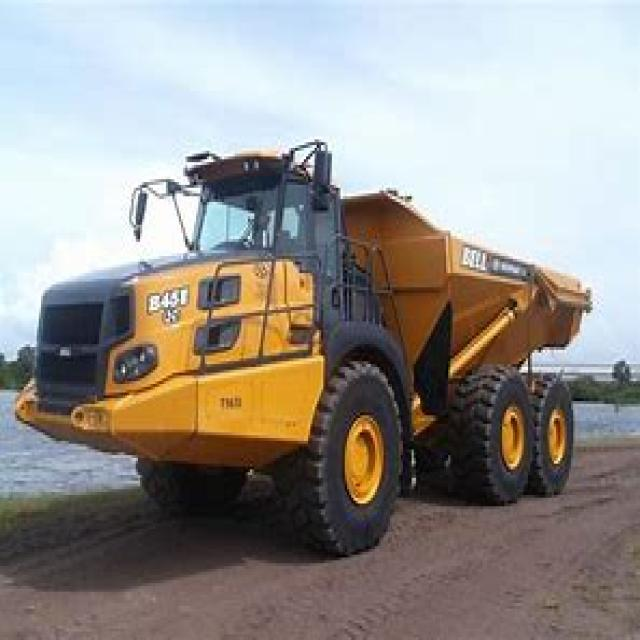dump_truck: (17, 139, 597, 555)
